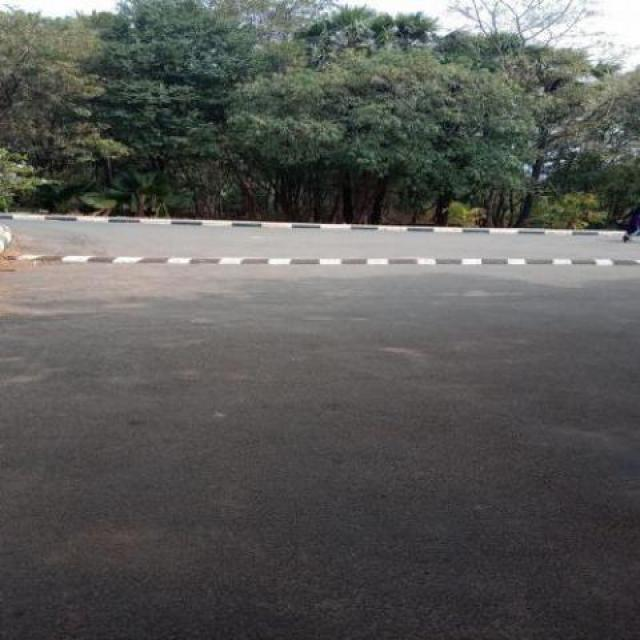Speed Bump: (4, 253, 639, 266)
